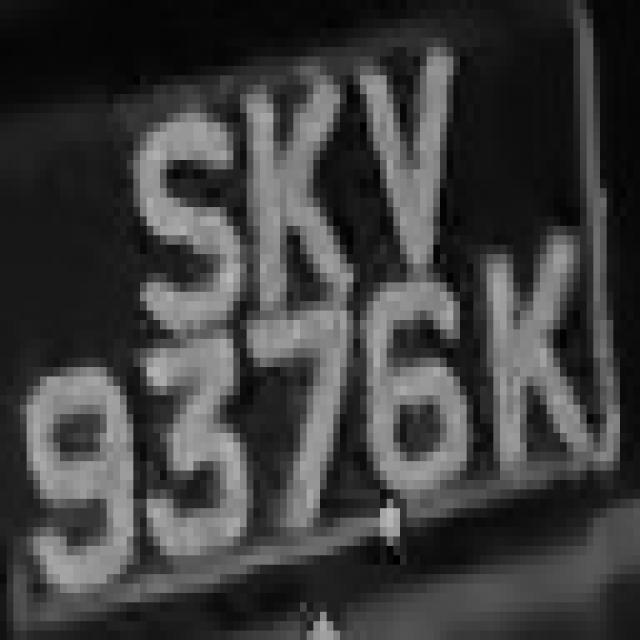3: (133, 329, 247, 593)
6: (353, 273, 467, 536)
7: (233, 301, 340, 565)
9: (13, 348, 134, 621)
K: (240, 56, 367, 330), (466, 216, 586, 499)
S: (120, 75, 240, 358)
V: (347, 10, 473, 302)
